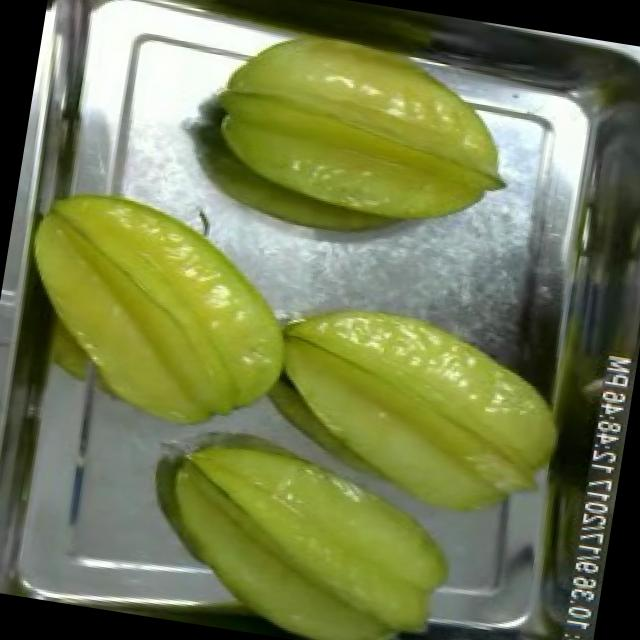fruit: (0, 169, 319, 453), (242, 284, 582, 544), (188, 0, 534, 252), (127, 414, 480, 640)
